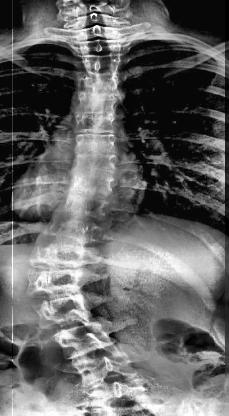Vertebrae: (18, 297, 96, 327), (44, 322, 120, 352), (14, 270, 94, 297), (21, 241, 97, 267), (42, 214, 108, 242), (70, 92, 132, 118), (66, 156, 128, 180), (61, 174, 118, 200), (50, 196, 106, 221), (66, 112, 128, 134), (70, 72, 128, 94), (67, 132, 125, 154), (76, 57, 126, 73), (76, 39, 122, 55), (77, 22, 117, 37)
